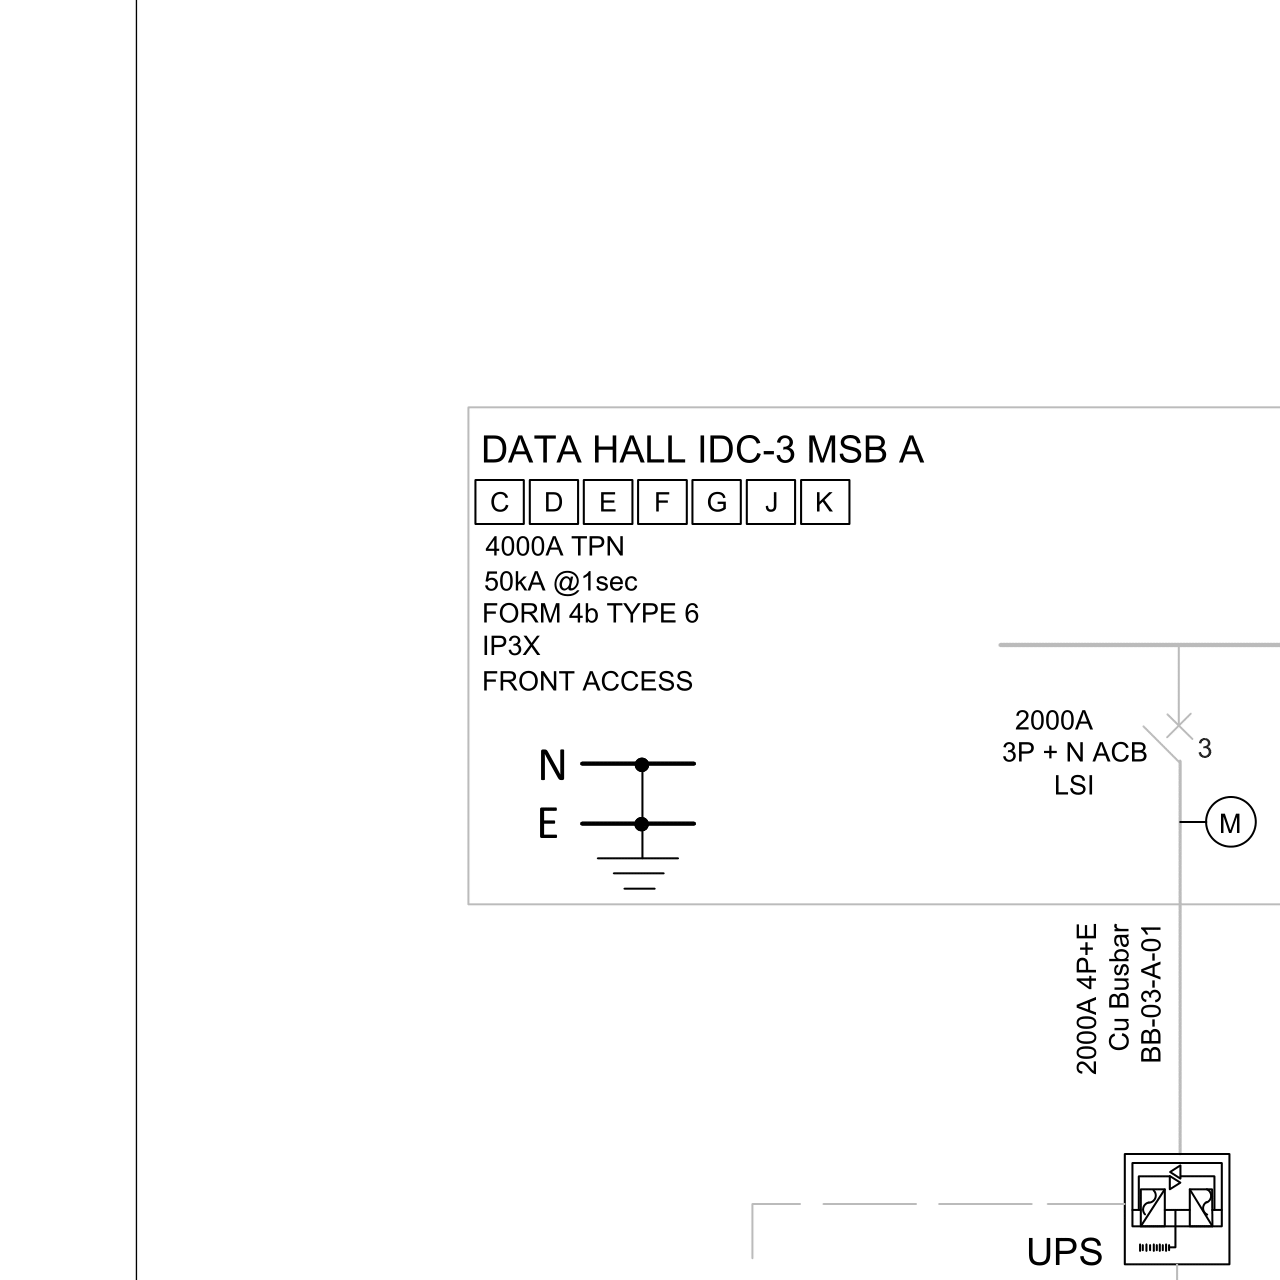UPS: (1112, 1143, 1240, 1273)
